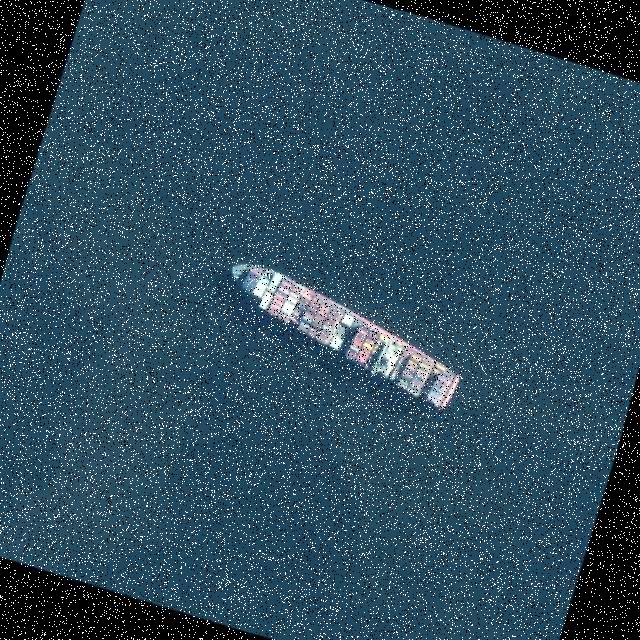ship: (229, 262, 461, 412)
